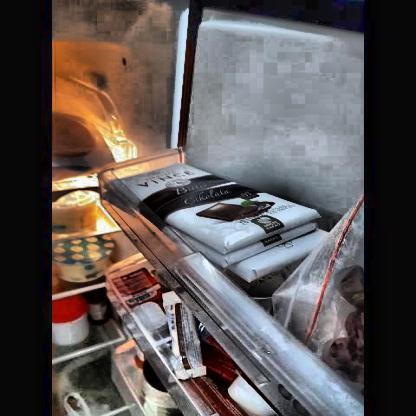chocolate: (126, 170, 314, 251)
salami: (54, 111, 97, 164)
yoghurt: (55, 238, 115, 281)
